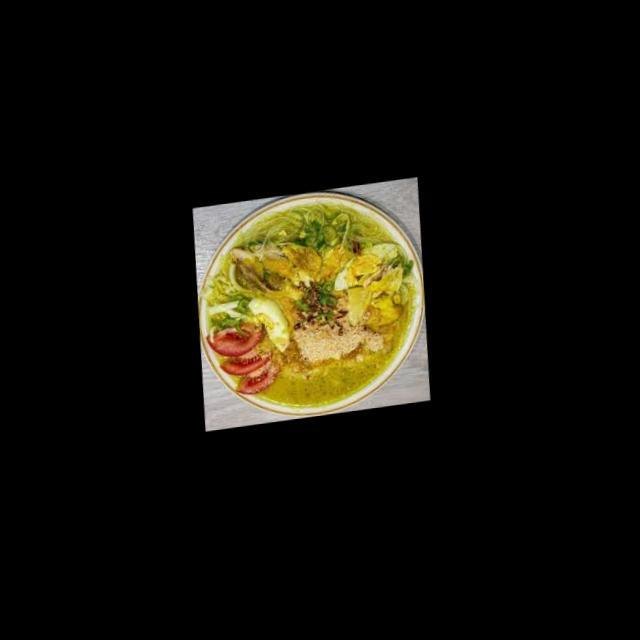Soto: (200, 193, 421, 414)
